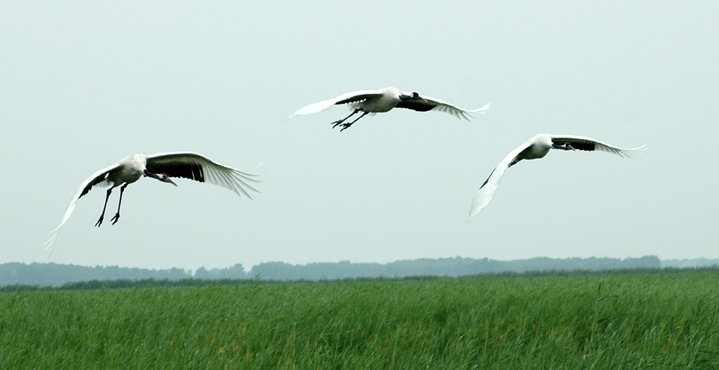bird: (40, 153, 266, 256), (461, 135, 647, 226), (281, 87, 495, 132)
